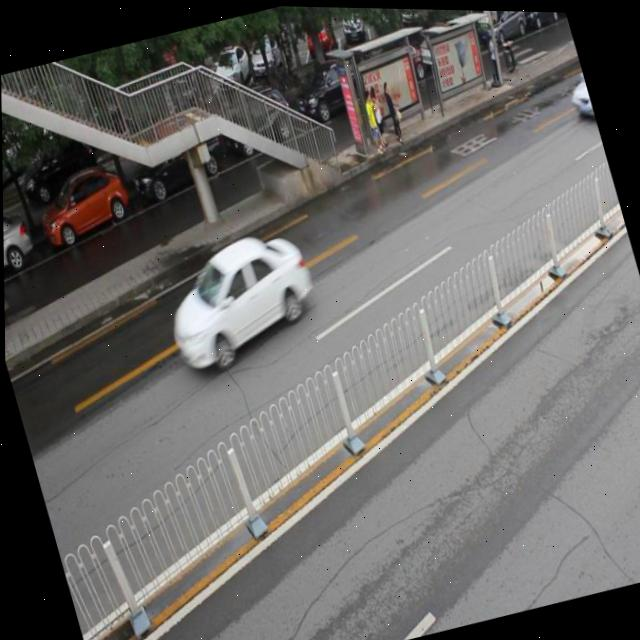car: (149, 221, 328, 379), (31, 161, 137, 252), (125, 120, 230, 202), (287, 53, 369, 128), (216, 85, 298, 157), (2, 204, 36, 284), (557, 52, 594, 120)
